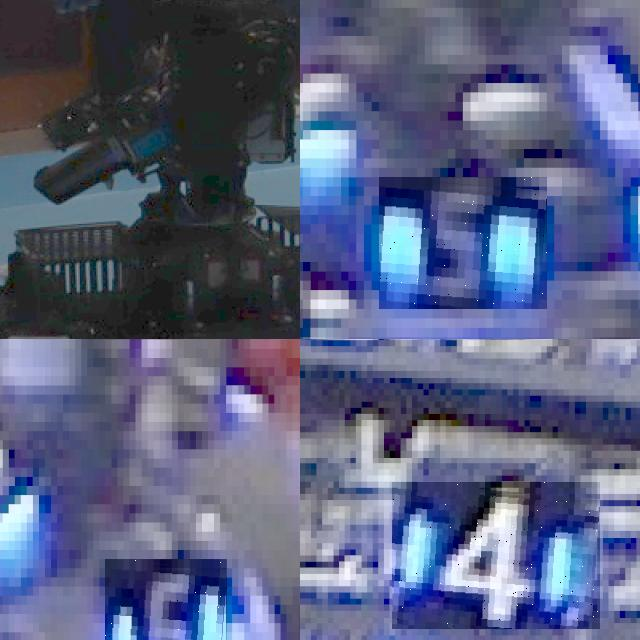B4: (392, 482, 600, 629)
B5: (379, 177, 547, 309), (105, 559, 226, 640)
